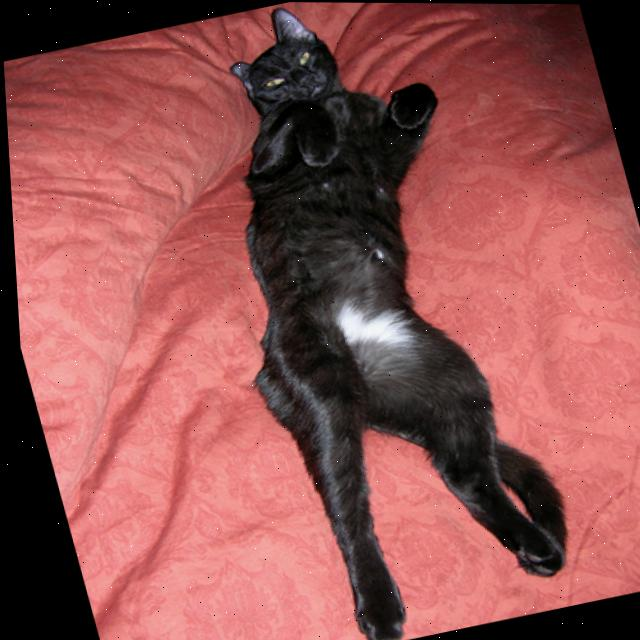Bombay: (153, 1, 586, 640)
